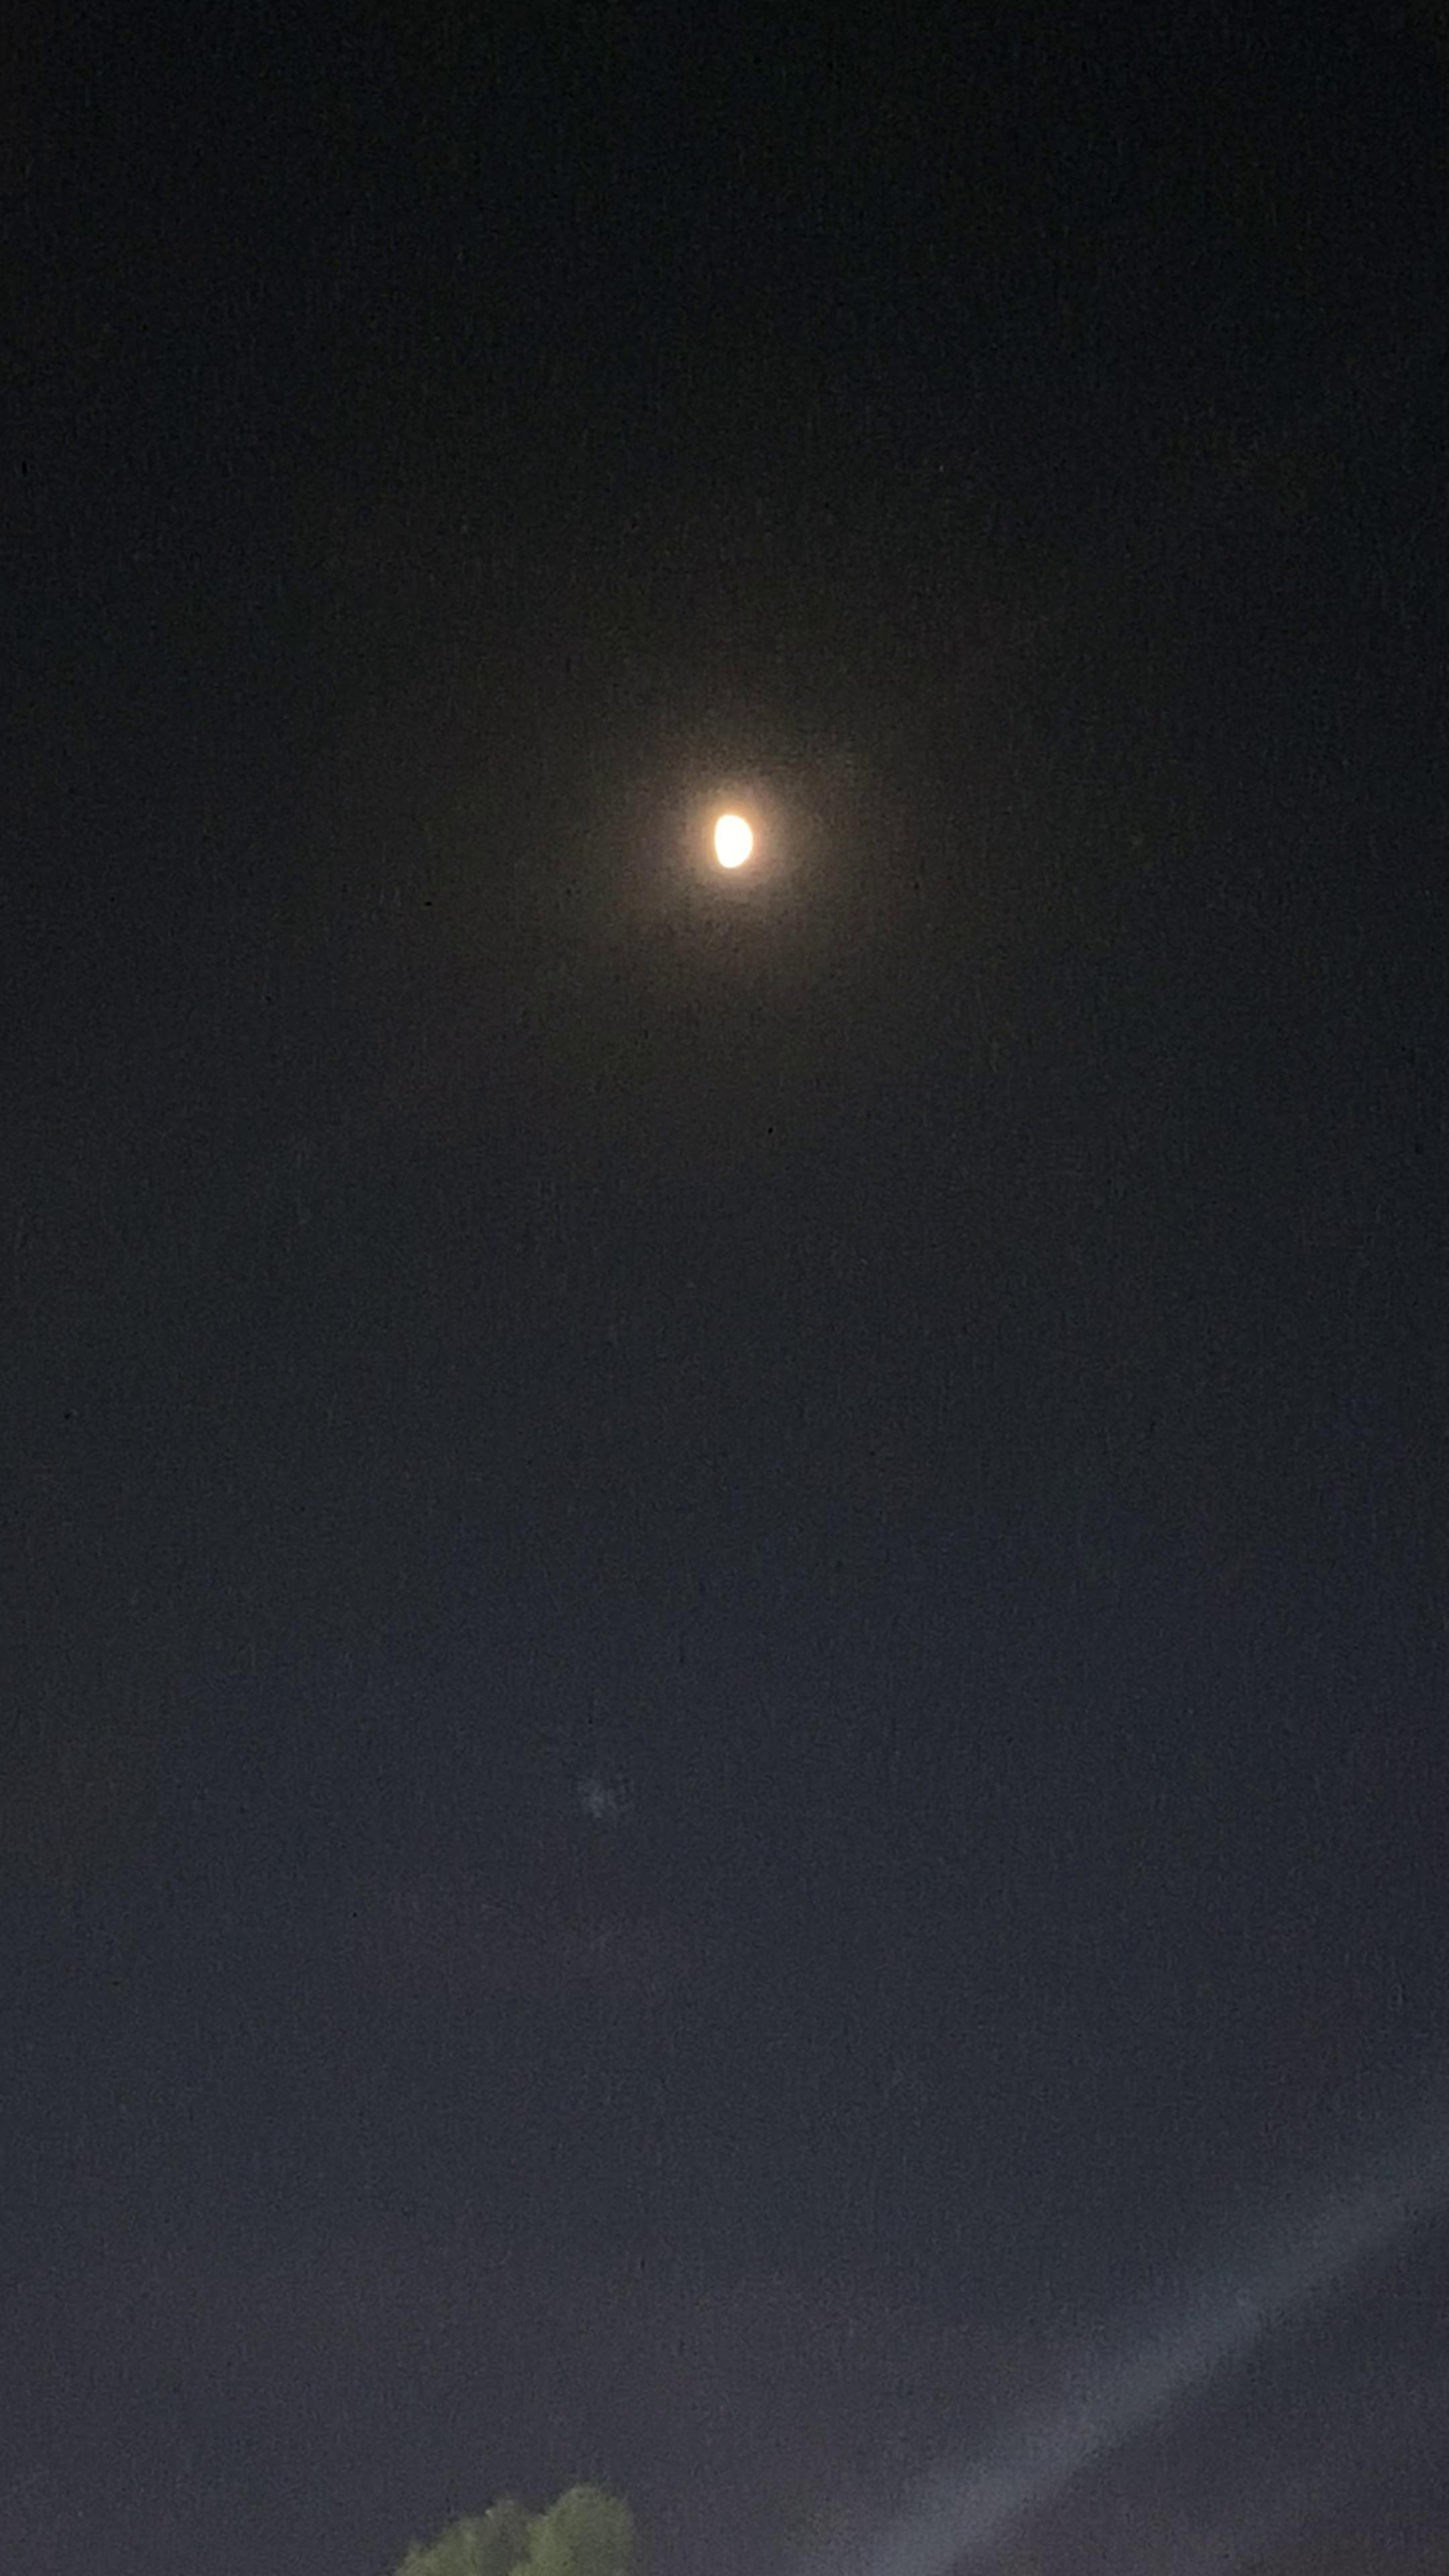moon: (692, 793, 809, 920)
